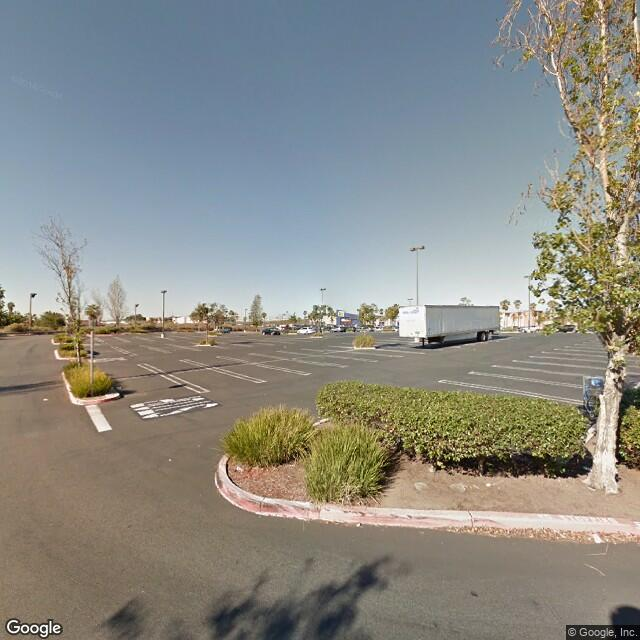litter: (589, 533, 604, 544), (236, 462, 245, 474), (42, 396, 49, 402), (356, 521, 360, 527)
